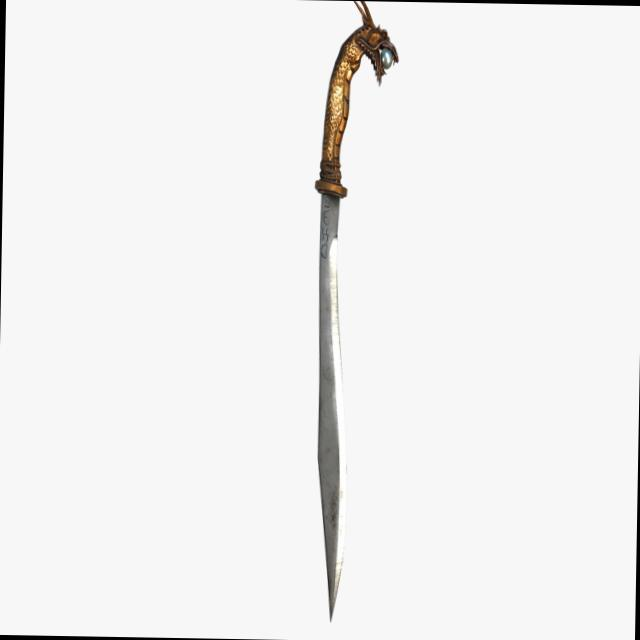Gun: (263, 0, 432, 632)
